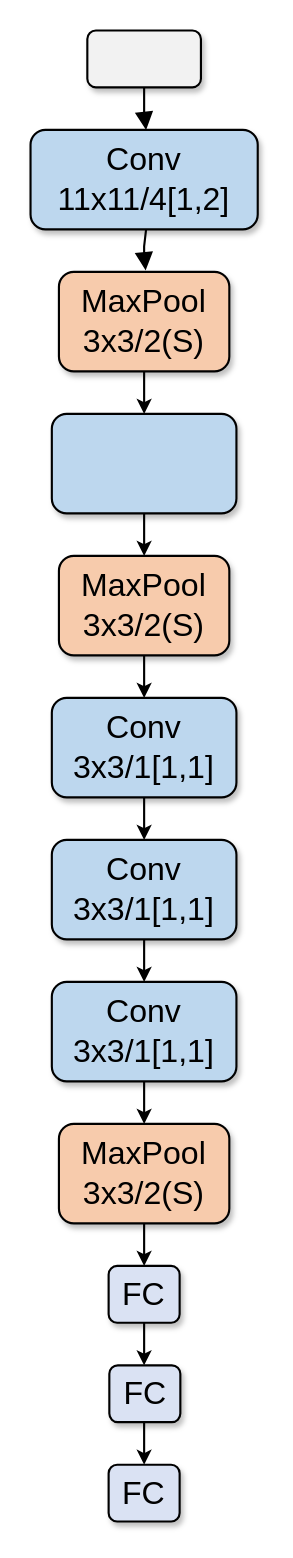
Some shapes in this 293 by 1558 pixel diagram are drawn without their labels. The centre of each missing label's shape, as x and y in pixels:
Conv 5x5/1[2,2]: pixel 144 465
Input: pixel 145 60
